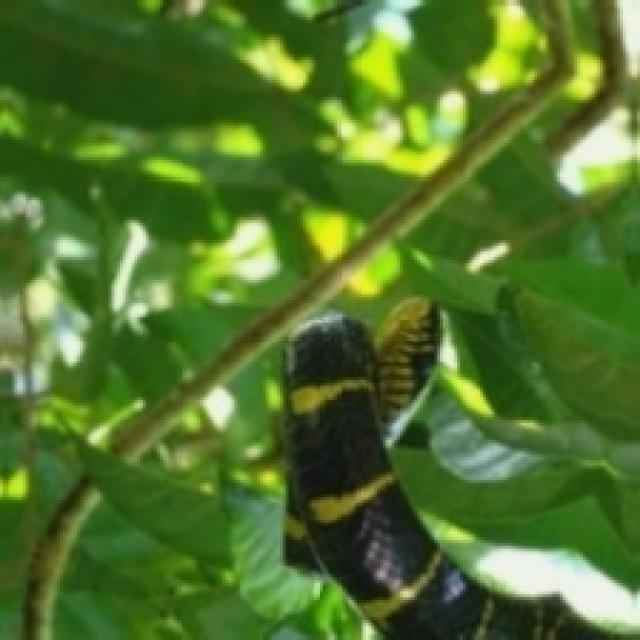mangrove cat snake: (286, 300, 606, 637)
